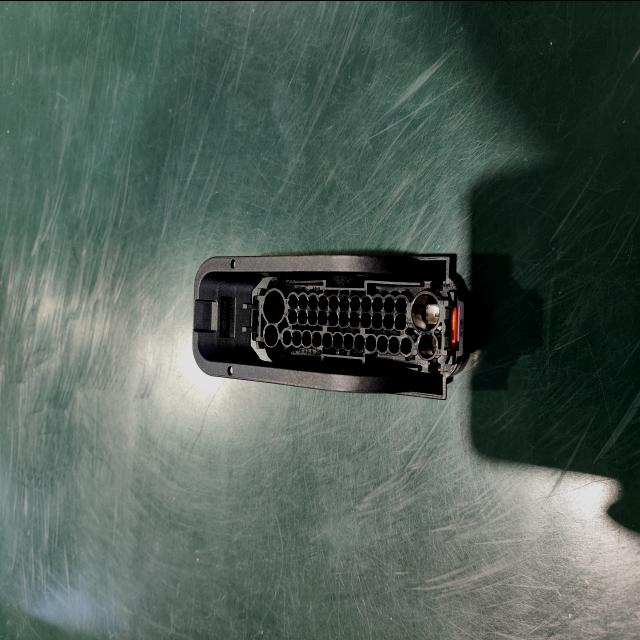P38: (193, 254, 475, 399)
